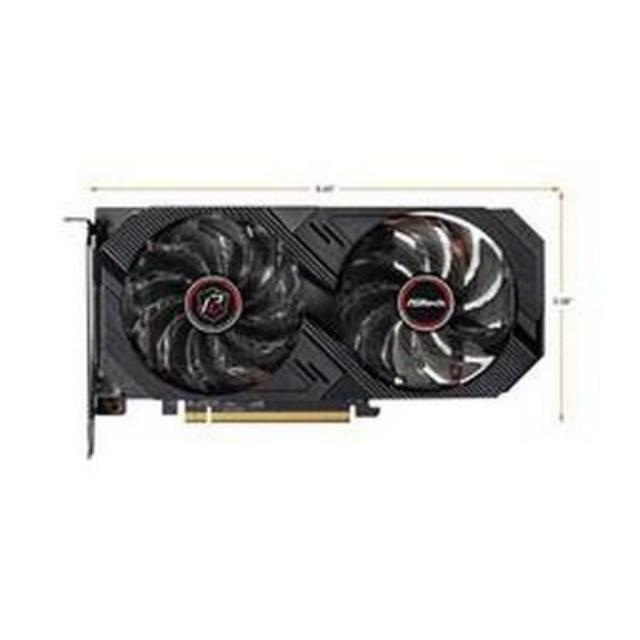GPU: (82, 194, 550, 442)
